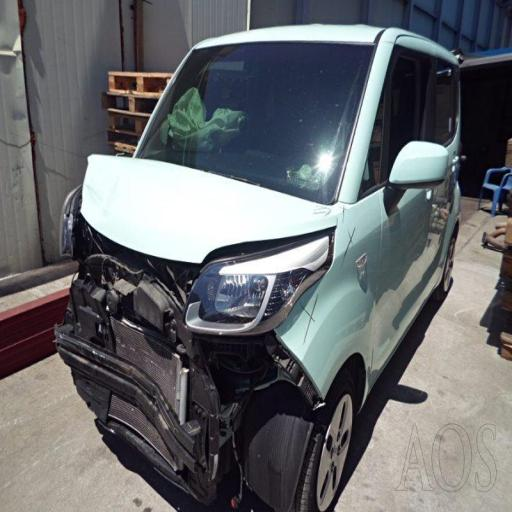broken: (68, 200, 246, 488)
dent: (100, 151, 278, 253)
